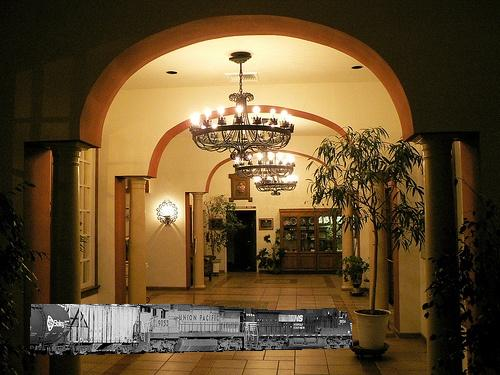tampered: (31, 305, 353, 355)
